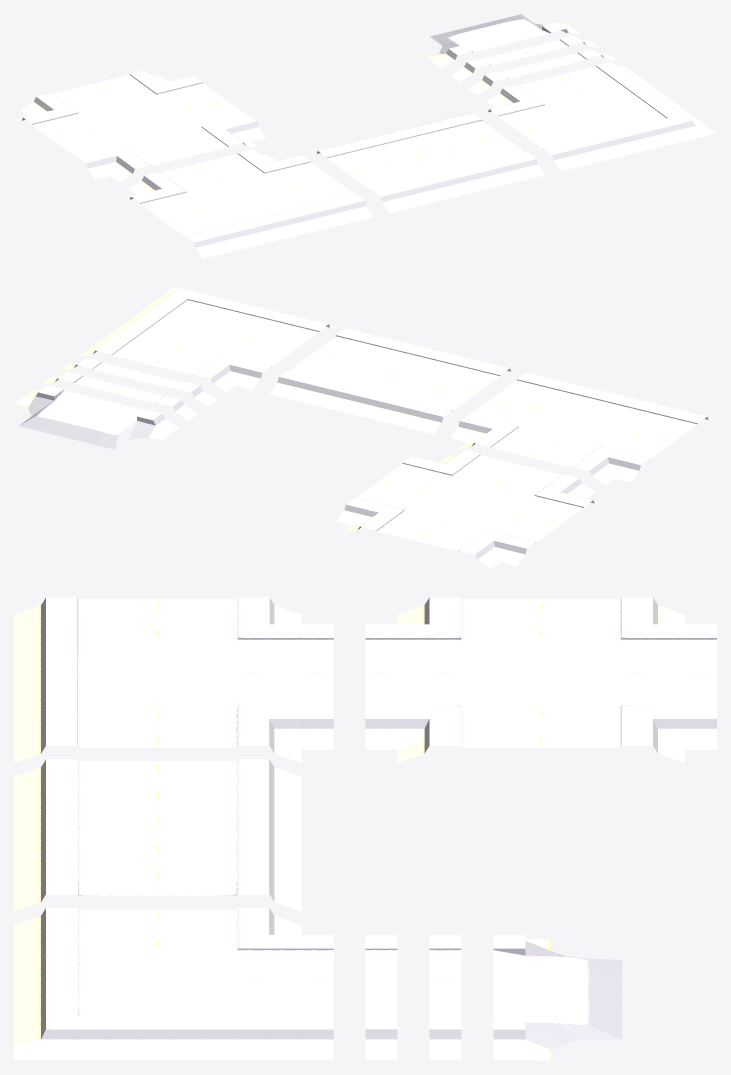
File: TownGround.glb
The picture shows the model from 3 angles, top to bottom: view 1: azimuth 30°, elevation 25°; view 2: azimuth 150°, elevation 25°; view 3: azimuth 270°, elevation 25°; orthographic projection. The views are drawn at different scales.
Parts seen in each view (by area): view 1: TownRoad, TownRoad.006, TownRoad.002, TownRoad.001, TownRoad.005, TownRoad.004, TownRoad.003; view 2: TownRoad, TownRoad.006, TownRoad.001, TownRoad.002, TownRoad.005, TownRoad.003, TownRoad.004; view 3: TownRoad, TownRoad.002, TownRoad.006, TownRoad.001, TownRoad.005, TownRoad.003, TownRoad.004.
Part boxes in pixels (x1=…): TownRoad: x1=14, y1=70, x2=265, y2=182; TownRoad.006: x1=122, y1=149, x2=373, y2=258; TownRoad.002: x1=481, y1=61, x2=716, y2=171; TownRoad.001: x1=309, y1=113, x2=545, y2=212; TownRoad.005: x1=426, y1=14, x2=581, y2=68; TownRoad.004: x1=451, y1=35, x2=599, y2=81; TownRoad.003: x1=469, y1=48, x2=617, y2=94; TownRoad: x1=336, y1=450, x2=601, y2=568; TownRoad.006: x1=450, y1=372, x2=716, y2=485; TownRoad.001: x1=269, y1=328, x2=518, y2=433; TownRoad.002: x1=79, y1=287, x2=336, y2=392; TownRoad.005: x1=14, y1=385, x2=178, y2=449; TownRoad.003: x1=60, y1=357, x2=216, y2=406; TownRoad.004: x1=41, y1=371, x2=197, y2=420; TownRoad: x1=365, y1=597, x2=716, y2=762; TownRoad.002: x1=14, y1=908, x2=333, y2=1060; TownRoad.006: x1=14, y1=597, x2=333, y2=762; TownRoad.001: x1=14, y1=759, x2=301, y2=911; TownRoad.005: x1=493, y1=935, x2=621, y2=1060; TownRoad.003: x1=365, y1=935, x2=397, y2=1060; TownRoad.004: x1=429, y1=935, x2=461, y2=1060.
Size of the model in its own units: 20.63 by 0.3891 by 13.75.
